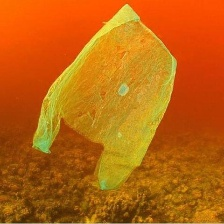plastic_bag: (26, 1, 182, 197)
